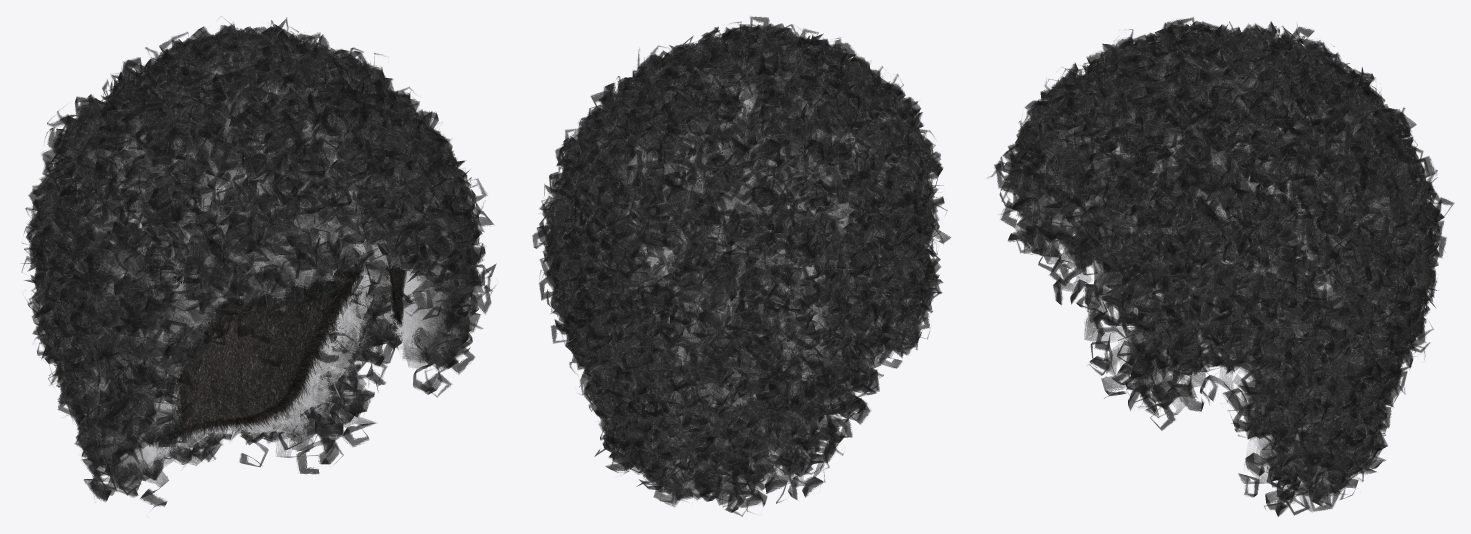
Rendered from hair-crespo.glb.
3 views of the same model, side by side, from view 1: azimuth 30°, elevation 25°; view 2: azimuth 150°, elevation 25°; view 3: azimuth 270°, elevation 25° (orthographic). The views are drawn at different scales.
Visible parts, largest first — view 1: Object_2, Object_3, Object_4; view 2: Object_2, Object_3; view 3: Object_2, Object_3.
Boxes of the visible parts, x1=… form: Object_2: x1=22, y1=17, x2=492, y2=507; Object_3: x1=21, y1=16, x2=496, y2=501; Object_4: x1=152, y1=183, x2=406, y2=450; Object_2: x1=532, y1=23, x2=950, y2=512; Object_3: x1=542, y1=16, x2=939, y2=516; Object_2: x1=994, y1=24, x2=1454, y2=516; Object_3: x1=988, y1=17, x2=1444, y2=515.
Size of the model in its own units: 25.12 by 29.91 by 27.55.
2 materials, 2 textured.
